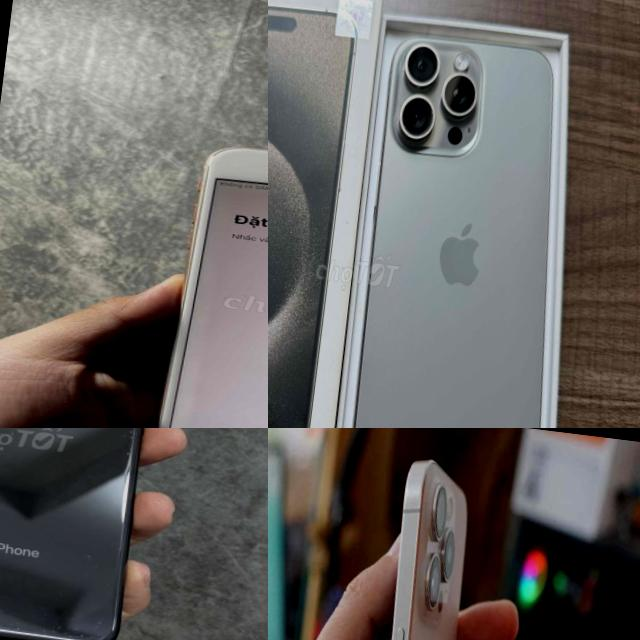gen_15: (326, 23, 602, 428), (334, 444, 500, 640)
gen_7_8: (149, 137, 268, 428)
gen_x_xs: (0, 428, 141, 640)
